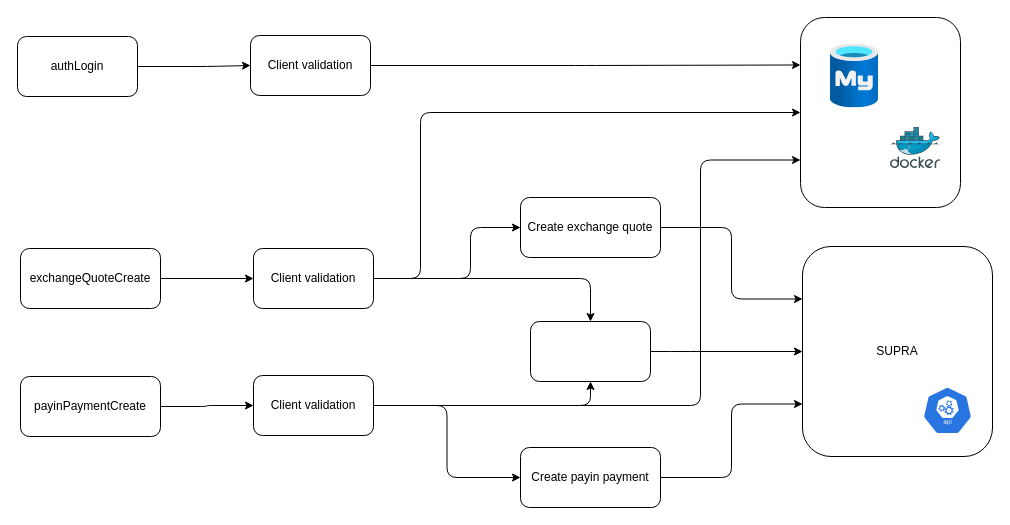
The diagram is 1010 pixels wide and 525 high, and some of its shapes have lost their labels. The centre of each missing label's shape, as x and y in pixels:
authClient: the point at 590,351
clients: the point at 854,76
